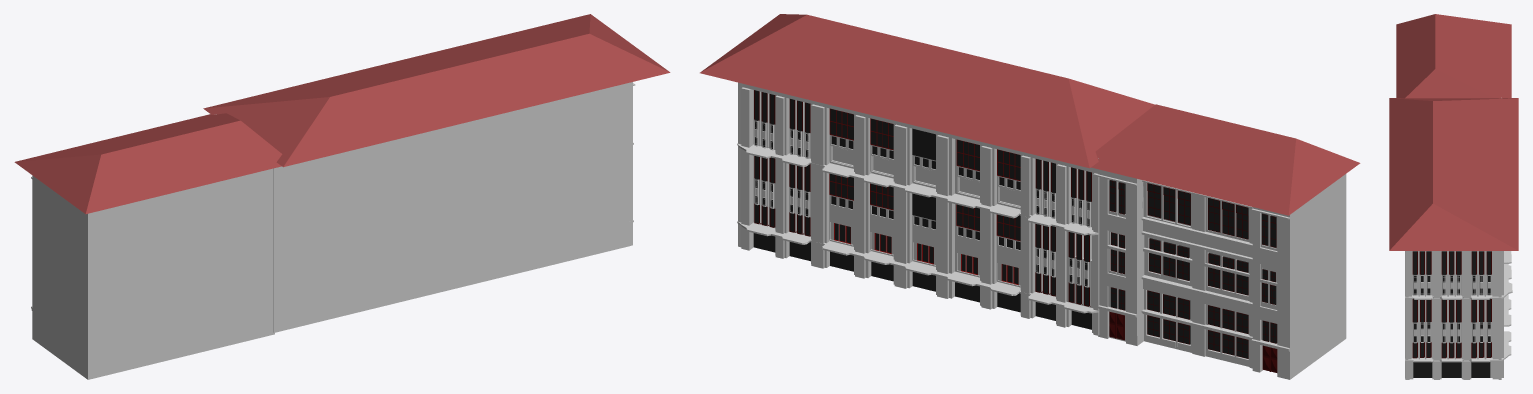
File: GedungJasindo.fbx
The picture shows the model from 3 angles, left to right: view 1: azimuth 30°, elevation 25°; view 2: azimuth 150°, elevation 25°; view 3: azimuth 270°, elevation 25°; orthographic projection. The views are drawn at different scales.
Visible parts, largest first — view 1: Cube, Cube.019, Cube.102, Cube.103; view 2: Cube, Cube.102, Cube.019, Cube.103, Cube.039, Cube.033, Cube.053, Cube.035, Cube.037, Cube.032, Cube.036, Cube.034 (+7 smaller); view 3: Cube.102, Cube.103, Cube, Cube.001, Cube.003, Cube.009, Cube.017, Cube.015, Cube.013, Cube.007, Cube.011, Cube.005 (+9 smaller).
Part boxes in pixels (box(x1,y1,x2,y2)): Cube: box(216, 82, 635, 332); Cube.019: box(31, 168, 274, 379); Cube.102: box(203, 14, 670, 167); Cube.103: box(14, 113, 282, 214); Cube: box(737, 82, 1099, 335); Cube.102: box(700, 14, 1154, 168); Cube.019: box(1097, 169, 1346, 379); Cube.103: box(1091, 104, 1360, 215); Cube.039: box(996, 214, 1020, 286); Cube.033: box(829, 173, 853, 245); Cube.053: box(912, 193, 935, 265); Cube.035: box(870, 183, 893, 255); Cube.037: box(956, 204, 979, 276); Cube.032: box(829, 108, 853, 167); Cube.036: box(956, 139, 979, 198); Cube.034: box(870, 118, 893, 177); Cube.102: box(1389, 98, 1518, 250); Cube.103: box(1396, 14, 1511, 98); Cube: box(1405, 97, 1512, 379); Cube.001: box(1441, 299, 1446, 358); Cube.003: box(1412, 299, 1417, 358); Cube.009: box(1471, 299, 1476, 358); Cube.017: box(1456, 299, 1461, 358); Cube.015: box(1449, 300, 1454, 358); Cube.013: box(1486, 299, 1491, 357); Cube.007: box(1426, 299, 1431, 357); Cube.011: box(1479, 300, 1484, 357); Cube.005: box(1420, 300, 1424, 357).
Bounding box in the file's own units: 4108 × 1403 × 982.
